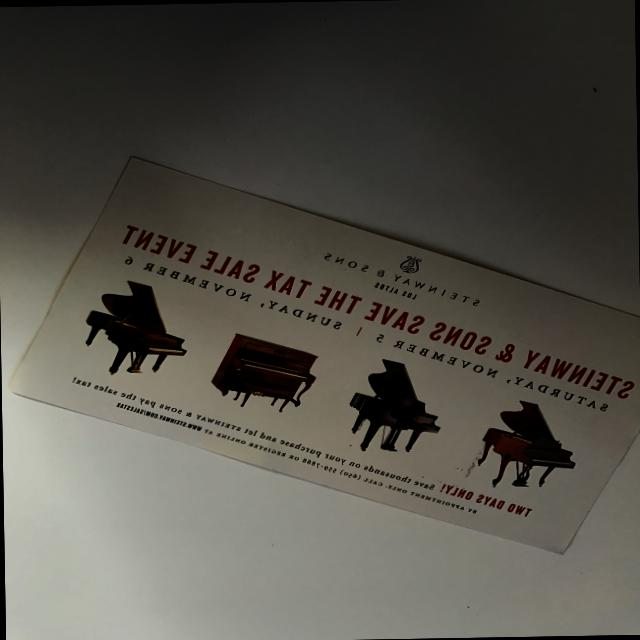Paper: (2, 136, 640, 579)
